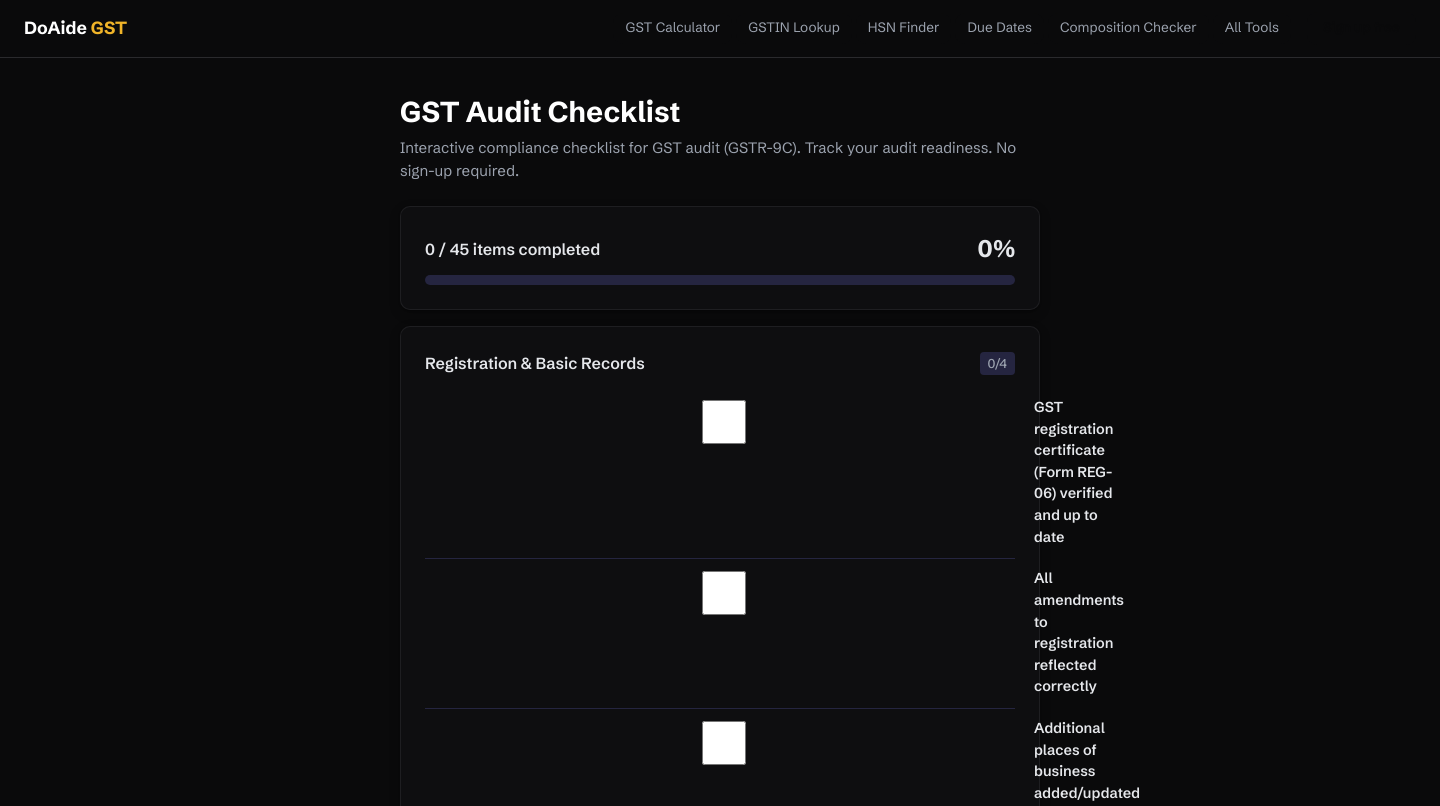
Scenario: AuditChecklistPage › updates progress when items are checked
Click the 1st checkbox: [724, 422] box [429, 400, 1019, 444]
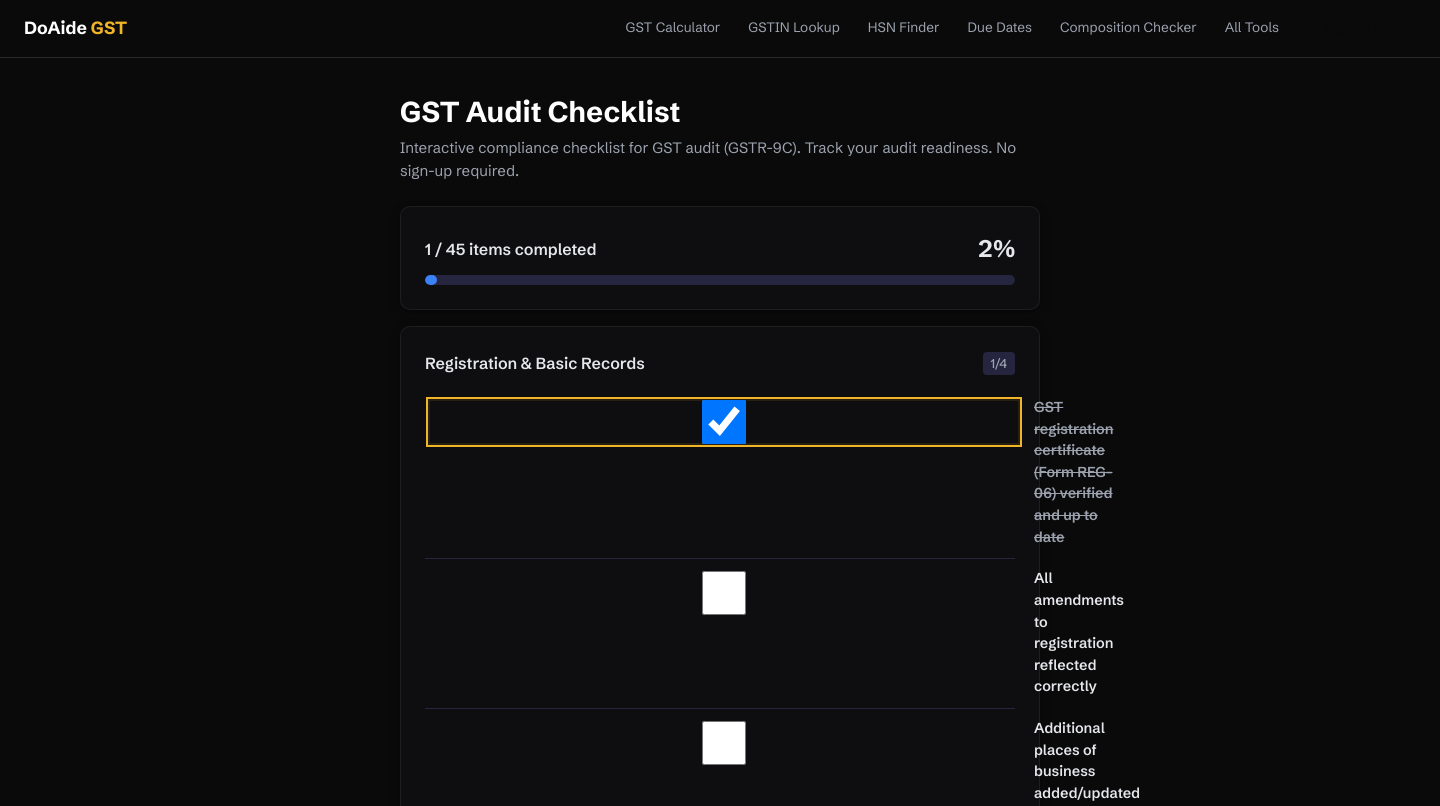
Now the text "0%" is gone
